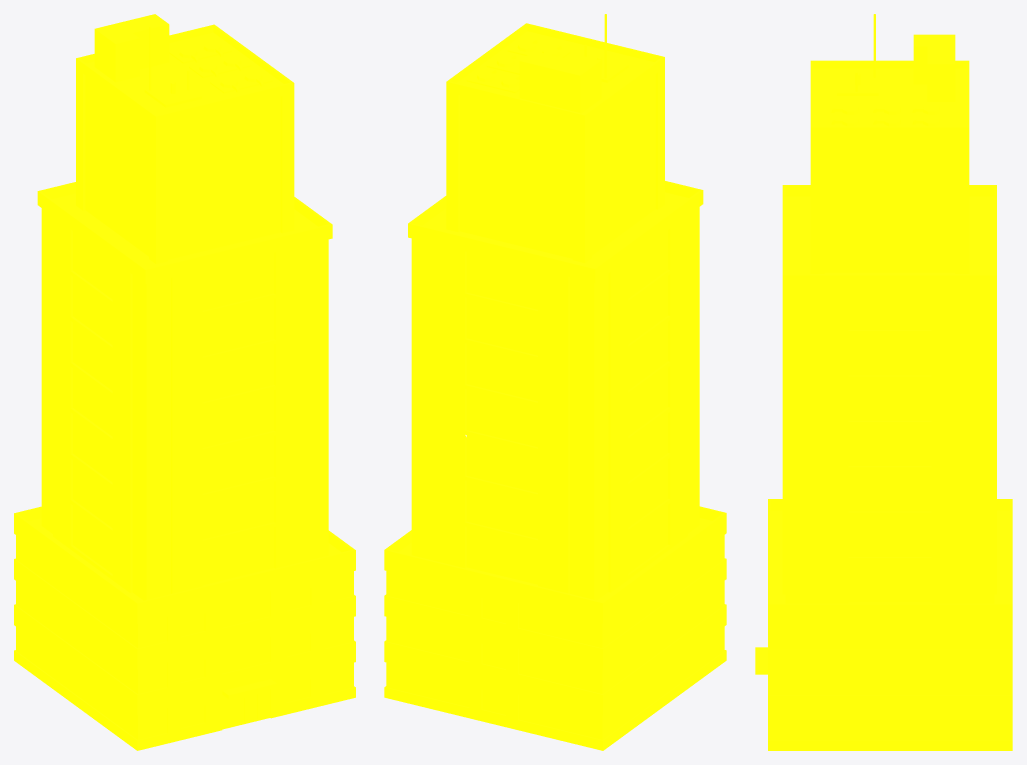
Rendered from building-office-pyramid.glb.
3 views of the same model, side by side, from view 1: azimuth 30°, elevation 25°; view 2: azimuth 150°, elevation 25°; view 3: azimuth 270°, elevation 25° (orthographic).
Visible parts, largest first — view 1: building-office-pyramid; view 2: building-office-pyramid; view 3: building-office-pyramid.
Part boxes in pixels (x1,y1,x2,y2): building-office-pyramid: [14, 14, 355, 750]; building-office-pyramid: [384, 14, 726, 750]; building-office-pyramid: [755, 14, 1012, 750].
Bounding box in the file's own units: 18 × 52.6 × 18.5.
1 material, 1 textured.
